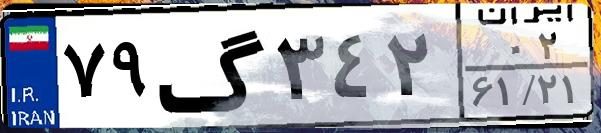0: (508, 27, 537, 80)
1: (560, 70, 590, 125), (495, 70, 520, 125)
2: (385, 28, 445, 110), (537, 27, 568, 80), (535, 70, 560, 125)
3: (270, 28, 330, 110)
4: (330, 28, 385, 110)
6: (470, 70, 495, 125)
7: (57, 26, 110, 100)
9: (110, 28, 156, 98)
گ: (156, 12, 270, 120)
